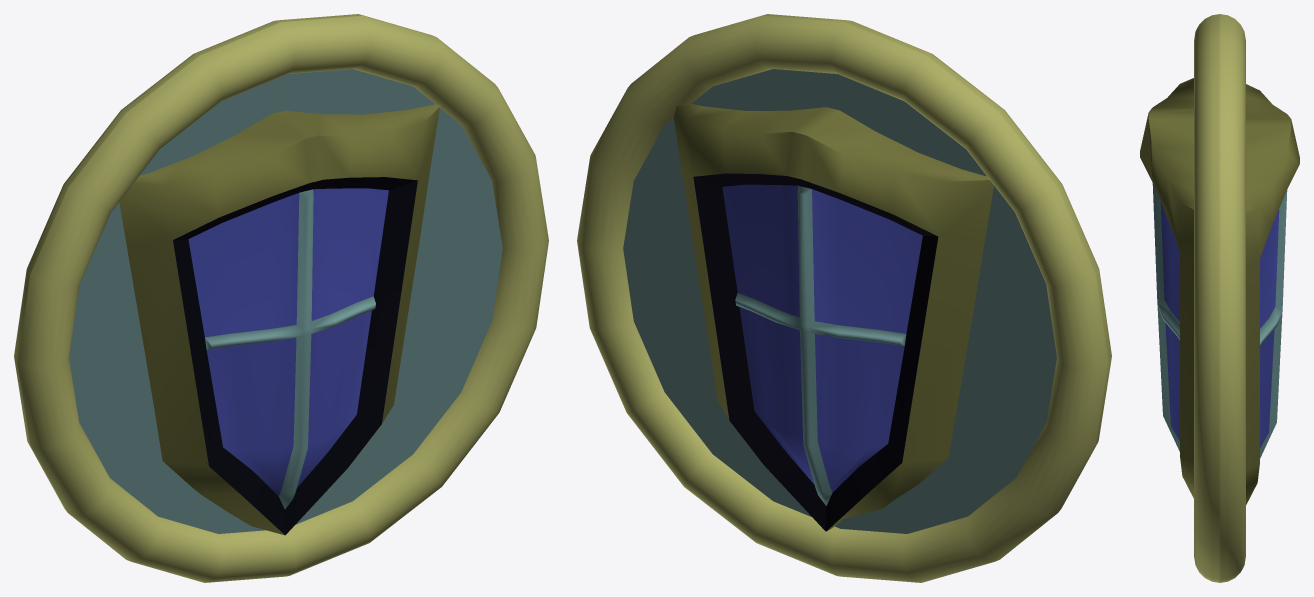
File: BgMD_invincible_item_01_01.fbx
3 views of the same model, side by side, from view 1: azimuth 30°, elevation 25°; view 2: azimuth 150°, elevation 25°; view 3: azimuth 270°, elevation 25° (orthographic). The views are drawn at different scales.
Parts seen in each view (by area): view 1: polySurface85; view 2: polySurface85; view 3: polySurface85.
Part boxes in pixels (<box>): polySurface85: <box>14,14,548,582</box>; polySurface85: <box>577,14,1111,582</box>; polySurface85: <box>1140,14,1299,582</box>.
Bounding box in the file's own units: 151 × 151 × 42.1.
